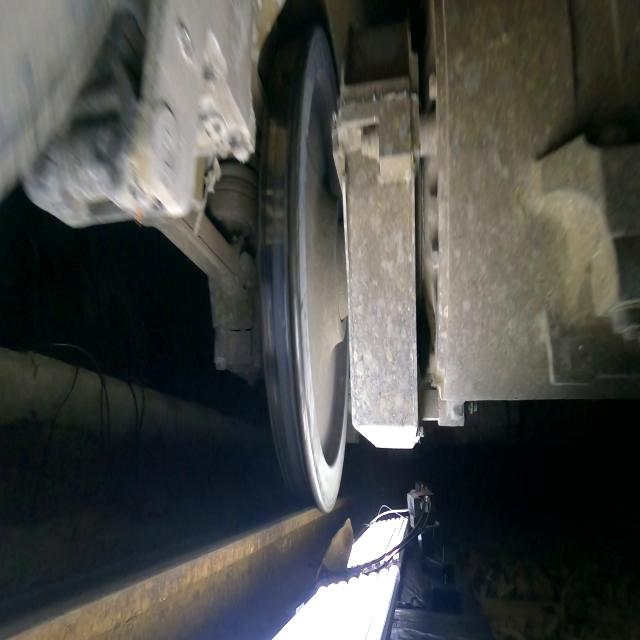Cracks-Scratches: (310, 454, 326, 500), (301, 402, 315, 452), (292, 294, 301, 365)
Discoloration: (273, 412, 311, 491)
Shelling: (262, 184, 286, 243), (266, 120, 287, 179)
Wheel: (258, 27, 349, 514)
